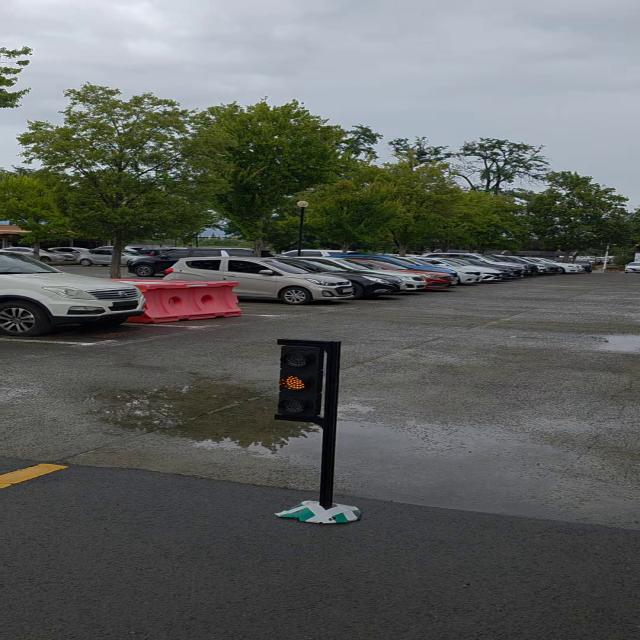yellow: (276, 339, 322, 423)
